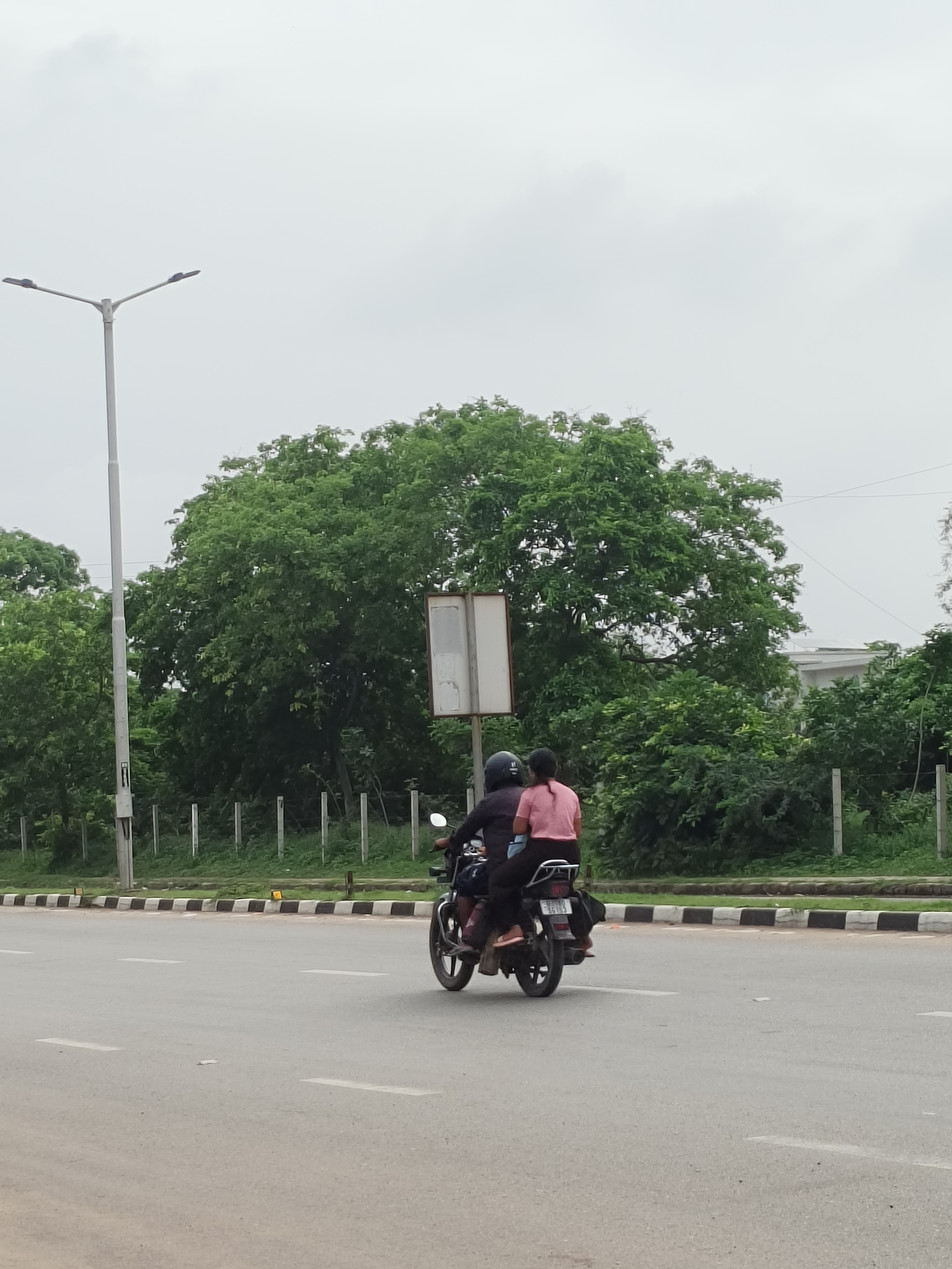BikeWithRider: (403, 708, 615, 1010)
Helmet: (475, 742, 530, 798)
NoHelmet: (528, 746, 564, 793)
